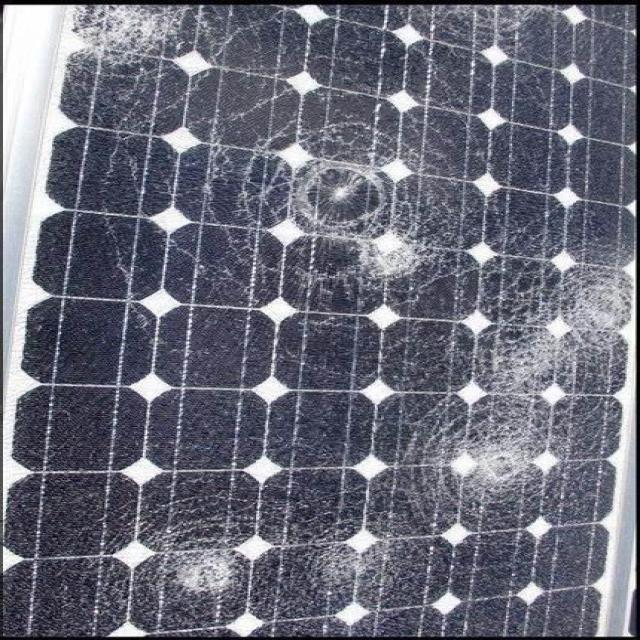Physical-damage: (249, 124, 448, 292), (138, 527, 260, 617), (427, 429, 563, 501), (539, 252, 639, 341), (70, 6, 189, 72), (317, 539, 403, 593), (485, 338, 563, 388)
